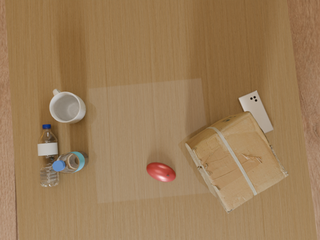bottle: (38, 124, 60, 187), (52, 151, 88, 174)
box: (185, 111, 288, 213)
cup: (50, 89, 86, 123)
mouse: (146, 162, 176, 182)
phone: (238, 91, 273, 133)
